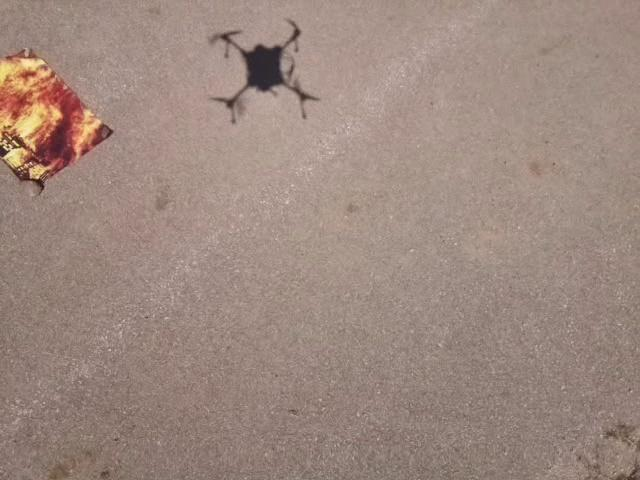fire-poster: (0, 46, 114, 195)
